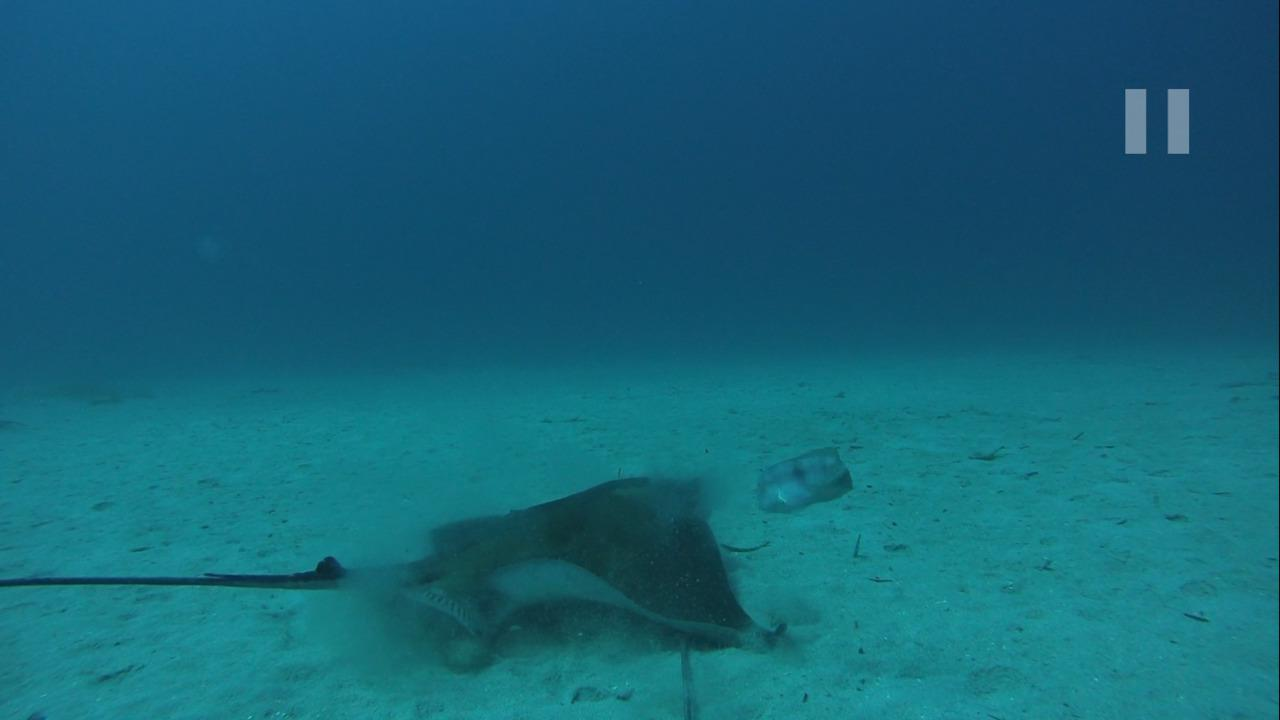myliobatis: (6, 470, 784, 673)
raor: (753, 445, 857, 507)
